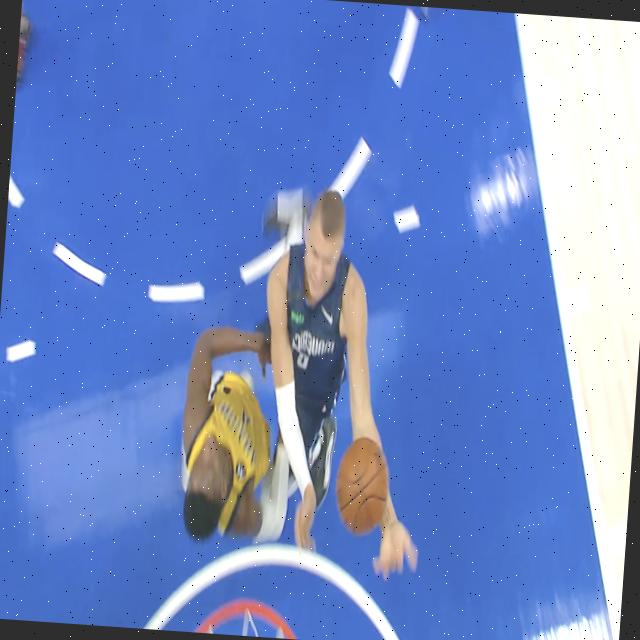Foul: (138, 159, 404, 566)
